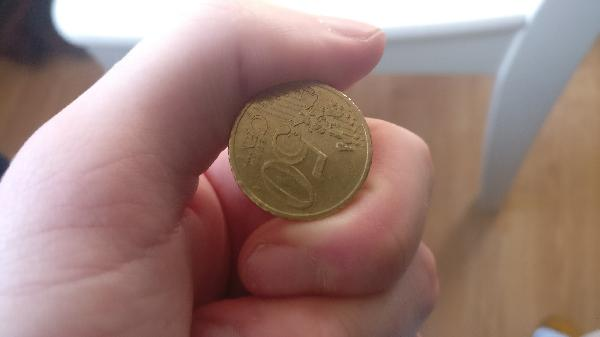Fifty Cent: (224, 79, 378, 217)
